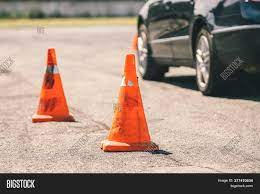car: (139, 1, 260, 96)
cone: (101, 52, 158, 152), (33, 49, 75, 123)
